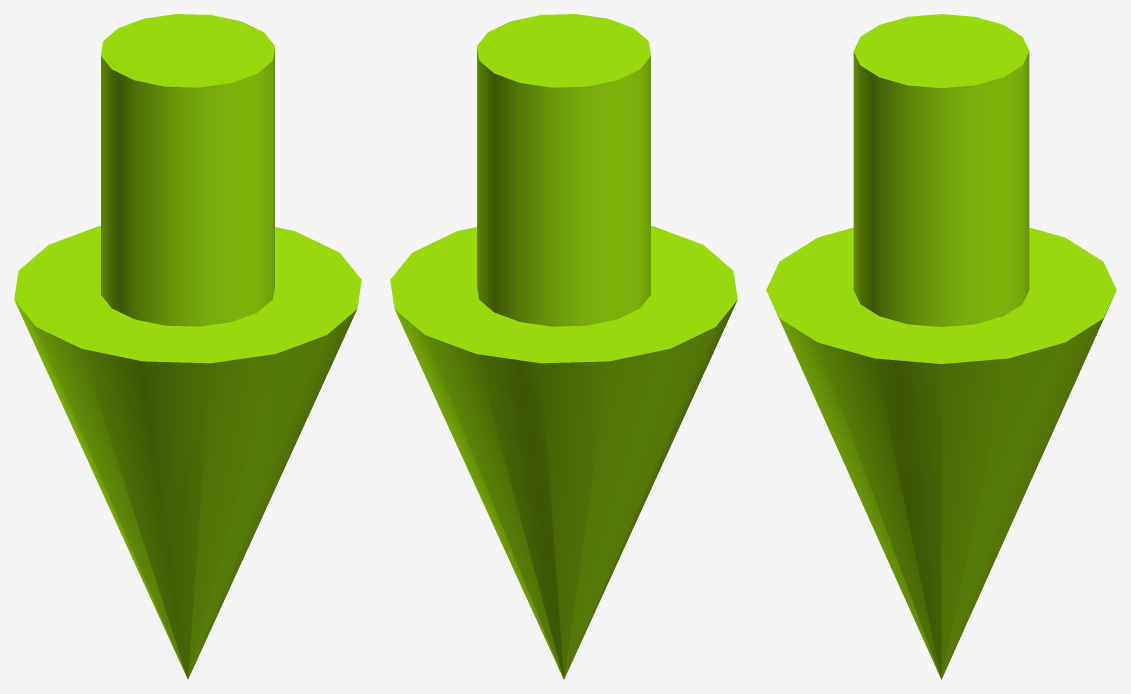
The model's file is flecha.FBX.
The picture shows the model from 3 angles, left to right: view 1: azimuth 30°, elevation 25°; view 2: azimuth 150°, elevation 25°; view 3: azimuth 270°, elevation 25°; orthographic projection.
Visible parts, largest first — view 1: Cone001; view 2: Cone001; view 3: Cone001.
Part boxes in pixels (x1=…): Cone001: x1=14, y1=14, x2=361, y2=679; Cone001: x1=390, y1=14, x2=737, y2=679; Cone001: x1=766, y1=14, x2=1116, y2=679.
Size of the model in its own units: 79.8 by 79.8 by 158.
